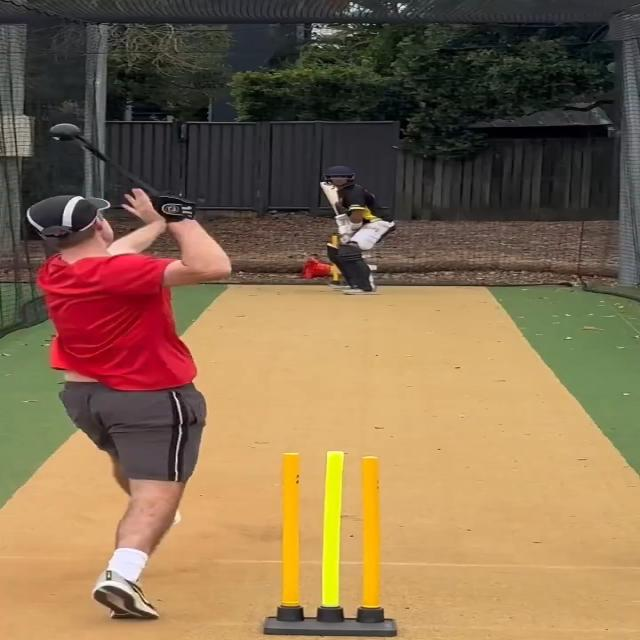stump: (262, 450, 396, 638)
